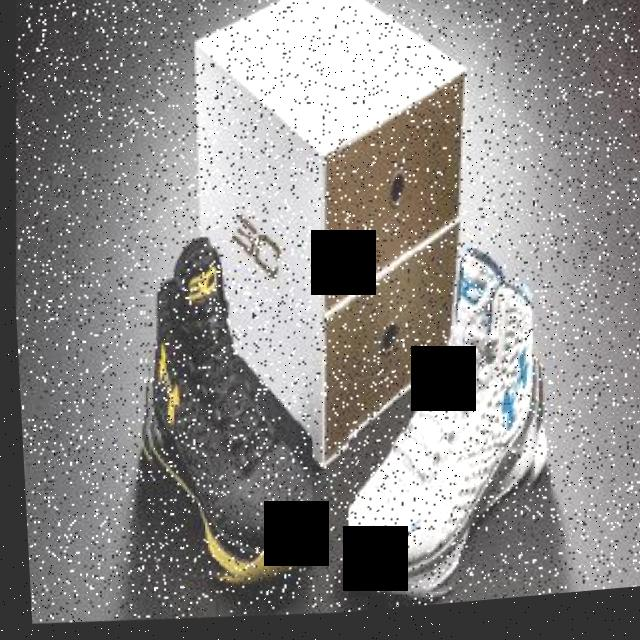shoe: (328, 245, 556, 614), (120, 230, 324, 594)
